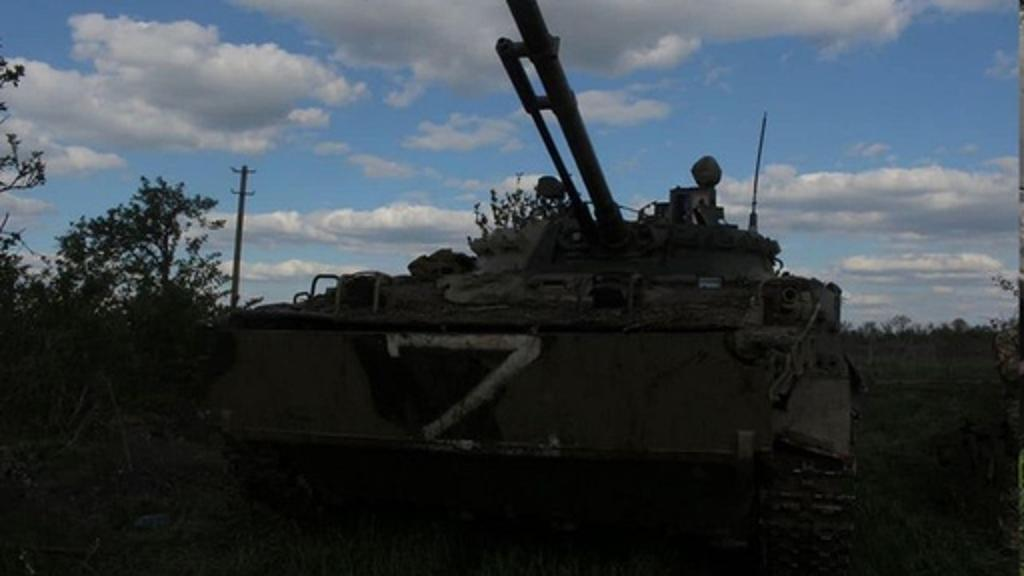APC-IFV: (226, 10, 866, 572)
